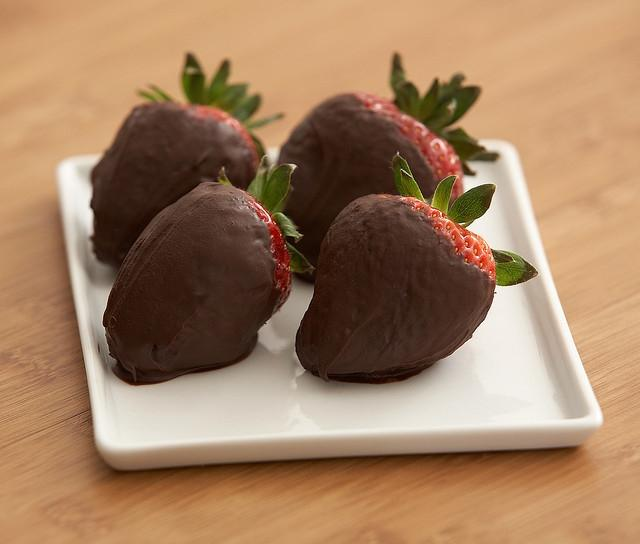strawberry: (296, 154, 540, 383), (278, 53, 500, 283), (103, 160, 304, 384), (90, 50, 284, 268)
